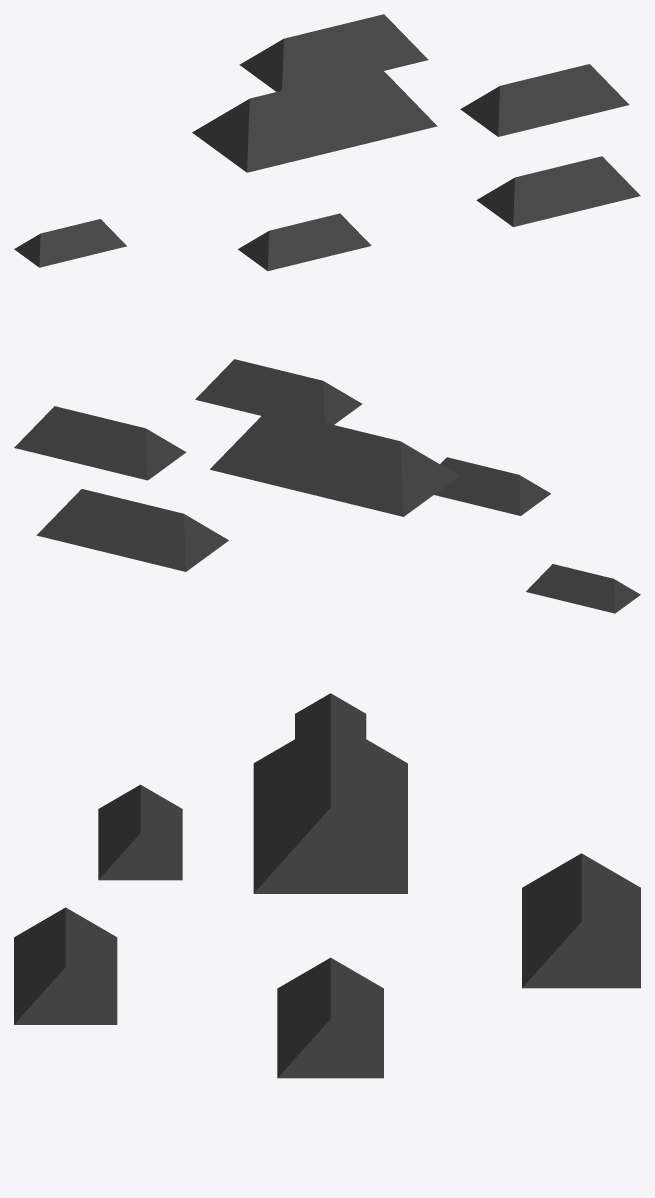
File: House01.obj
3 renders of one model, top to bottom at view 1: azimuth 30°, elevation 25°; view 2: azimuth 150°, elevation 25°; view 3: azimuth 270°, elevation 25°, orthographic. The views are drawn at different scales.
Visible parts, largest first — view 1: House01; view 2: House01; view 3: House01.
Boxes of the visible parts, x1,y1,x2,y2 form: House01: (14, 14, 640, 270); House01: (14, 359, 640, 613); House01: (14, 693, 640, 1078).
Bounding box in the file's own units: 2.37 × 0.6041 × 1.57.
Materials: 1 (1 with a texture image).
